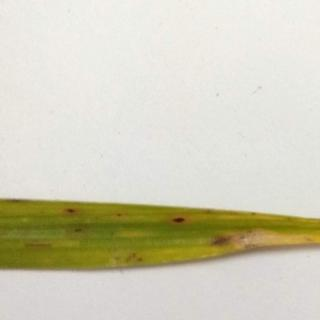bercak-Cokelat: (208, 231, 237, 251), (166, 208, 187, 232), (58, 204, 79, 224)
